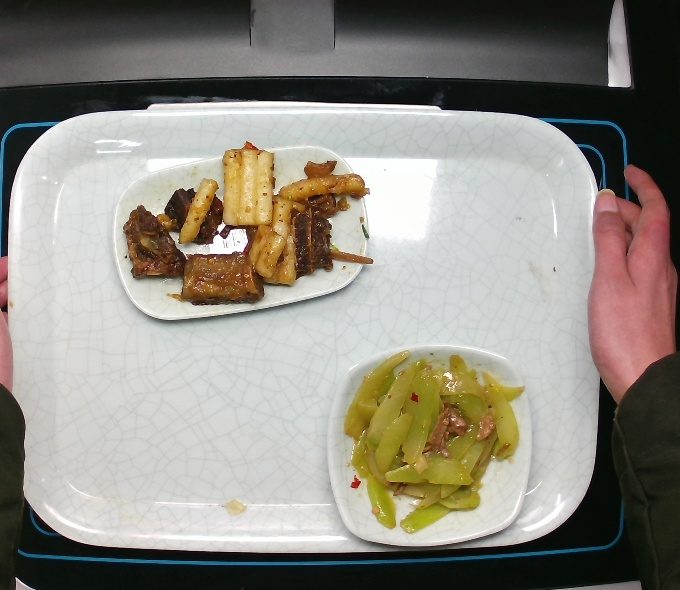wcq-NianGaoZaiPai: (120, 145, 375, 305)
wcq-WoSun: (340, 353, 527, 532)
